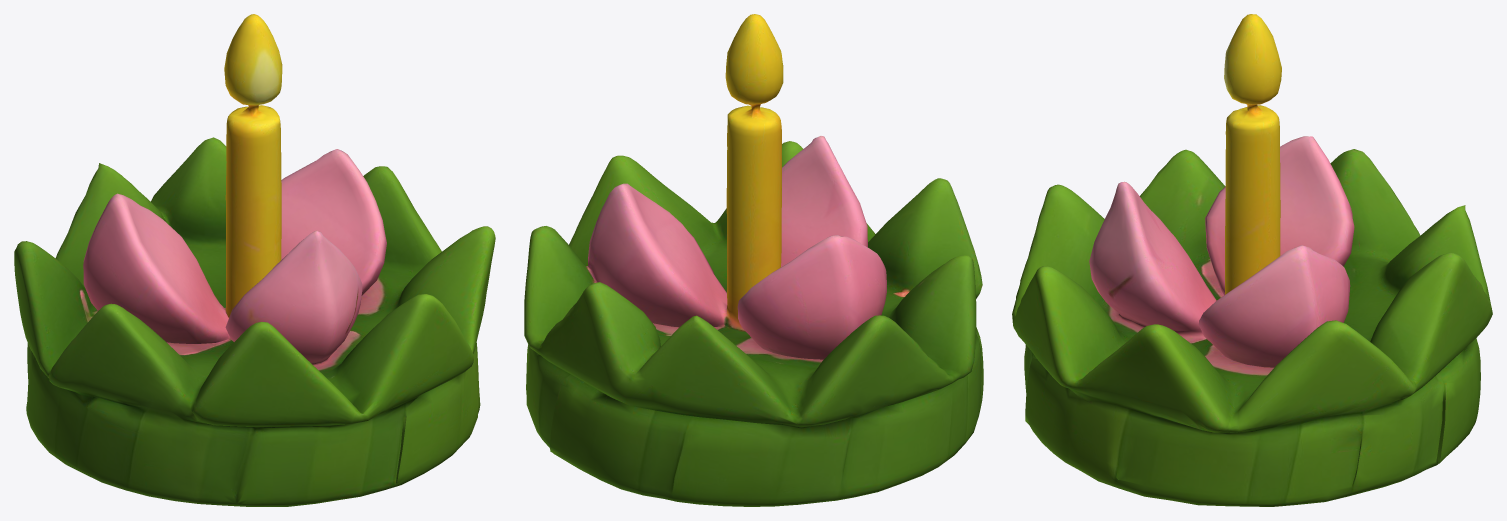
The picture shows the model from 3 angles, left to right: view 1: azimuth 30°, elevation 25°; view 2: azimuth 150°, elevation 25°; view 3: azimuth 270°, elevation 25°; orthographic projection.
Parts seen in each view (by area): view 1: tripo_node_c6df77fa-5e1c-44fc-a5e5-b8afa7eb55e2; view 2: tripo_node_c6df77fa-5e1c-44fc-a5e5-b8afa7eb55e2; view 3: tripo_node_c6df77fa-5e1c-44fc-a5e5-b8afa7eb55e2.
Boxes of the visible parts, box(x1,y1,x2,y2) form: tripo_node_c6df77fa-5e1c-44fc-a5e5-b8afa7eb55e2: box(14, 14, 495, 506); tripo_node_c6df77fa-5e1c-44fc-a5e5-b8afa7eb55e2: box(524, 14, 983, 506); tripo_node_c6df77fa-5e1c-44fc-a5e5-b8afa7eb55e2: box(1012, 14, 1492, 506).
Size of the model in its own units: 0.9934 by 0.9087 by 0.9889.
Materials: 1 (1 with a texture image).
